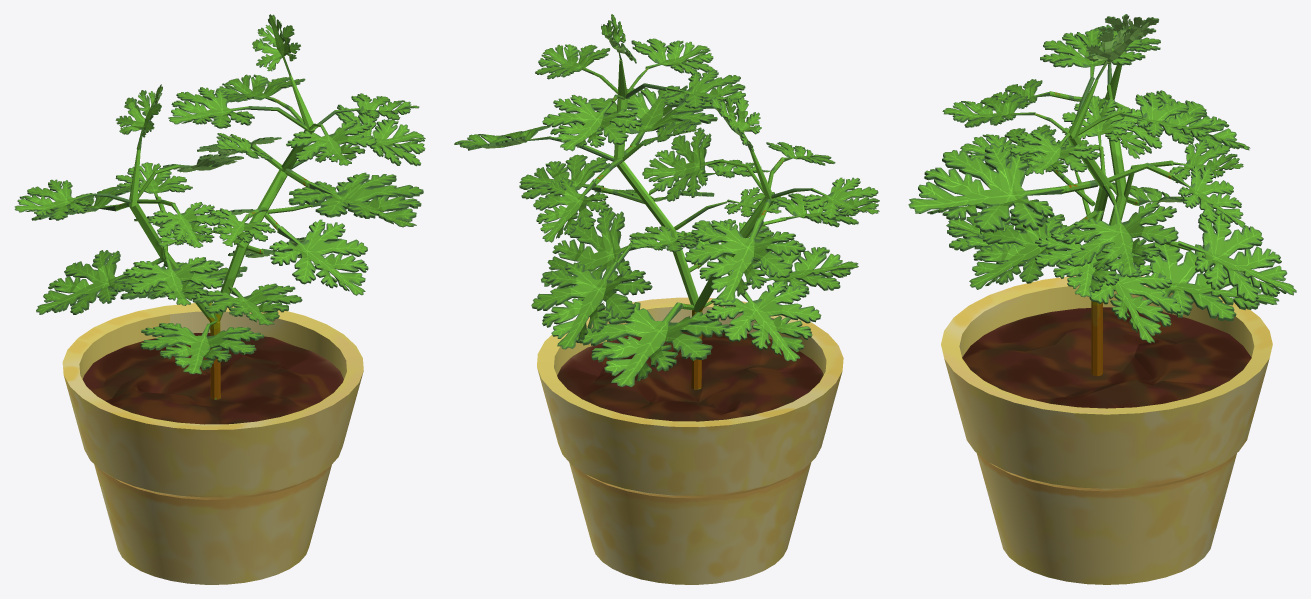
File: Pelargonium_Good_End.glb
3 renders of one model, left to right at view 1: azimuth 30°, elevation 25°; view 2: azimuth 150°, elevation 25°; view 3: azimuth 270°, elevation 25°, orthographic. The views are drawn at different scales.
Visible parts, largest first — view 1: Pot, Plant; view 2: Plant, Pot; view 3: Pot, Plant.
Part boxes in pixels (x1=…): Pot: x1=62, y1=303, x2=363, y2=584; Plant: x1=14, y1=14, x2=425, y2=399; Plant: x1=454, y1=14, x2=879, y2=389; Pot: x1=537, y1=297, x2=843, y2=584; Pot: x1=941, y1=276, x2=1272, y2=584; Plant: x1=908, y1=14, x2=1296, y2=376.
Size of the model in its own units: 3.25 by 3.79 by 2.41.
2 materials, 2 textured.
